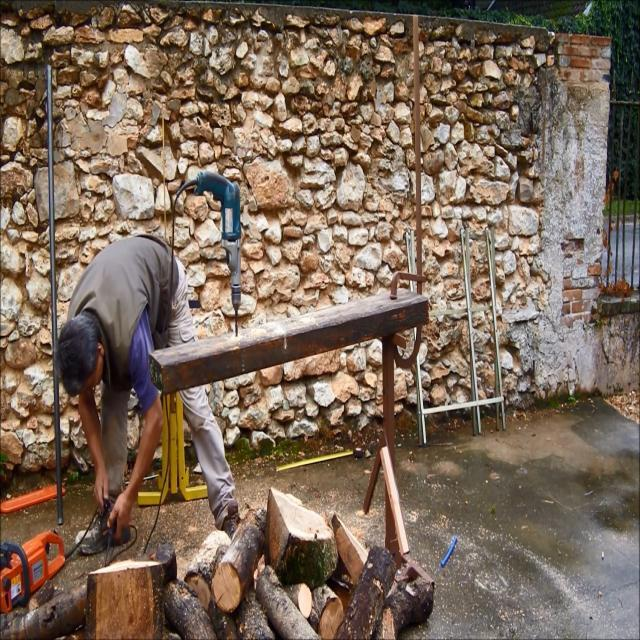Chainsaw: (0, 512, 83, 640)
